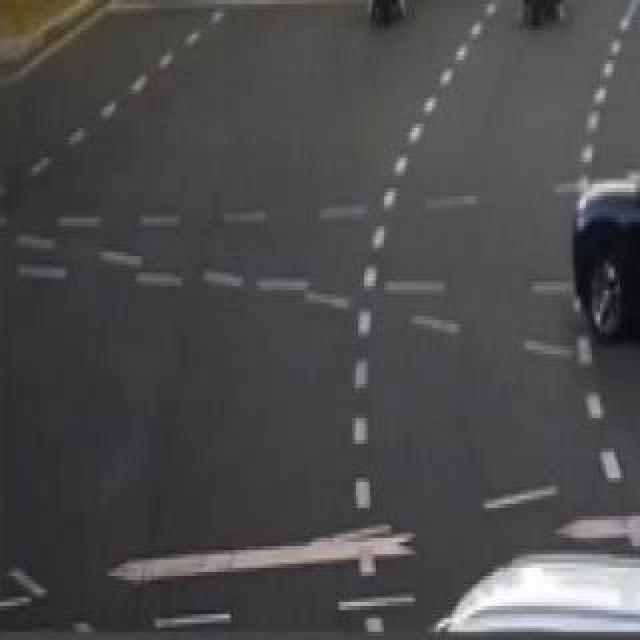motorbike: (352, 0, 416, 28), (502, 0, 574, 22)
